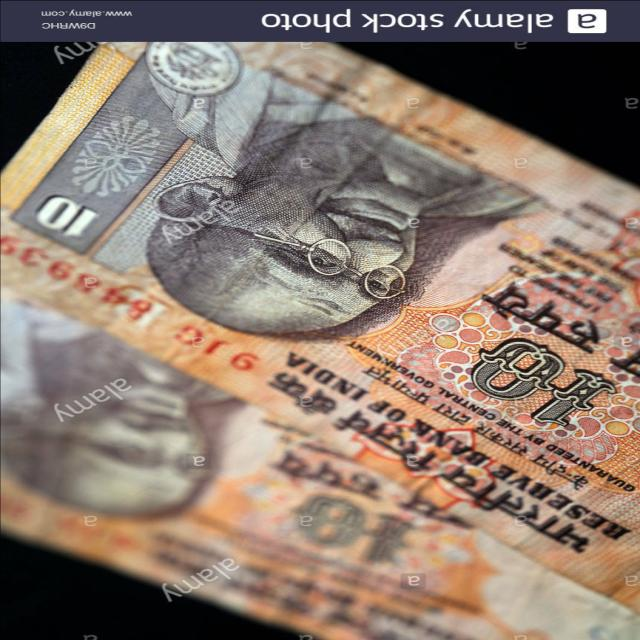10IndianRupees: (0, 39, 640, 594)
